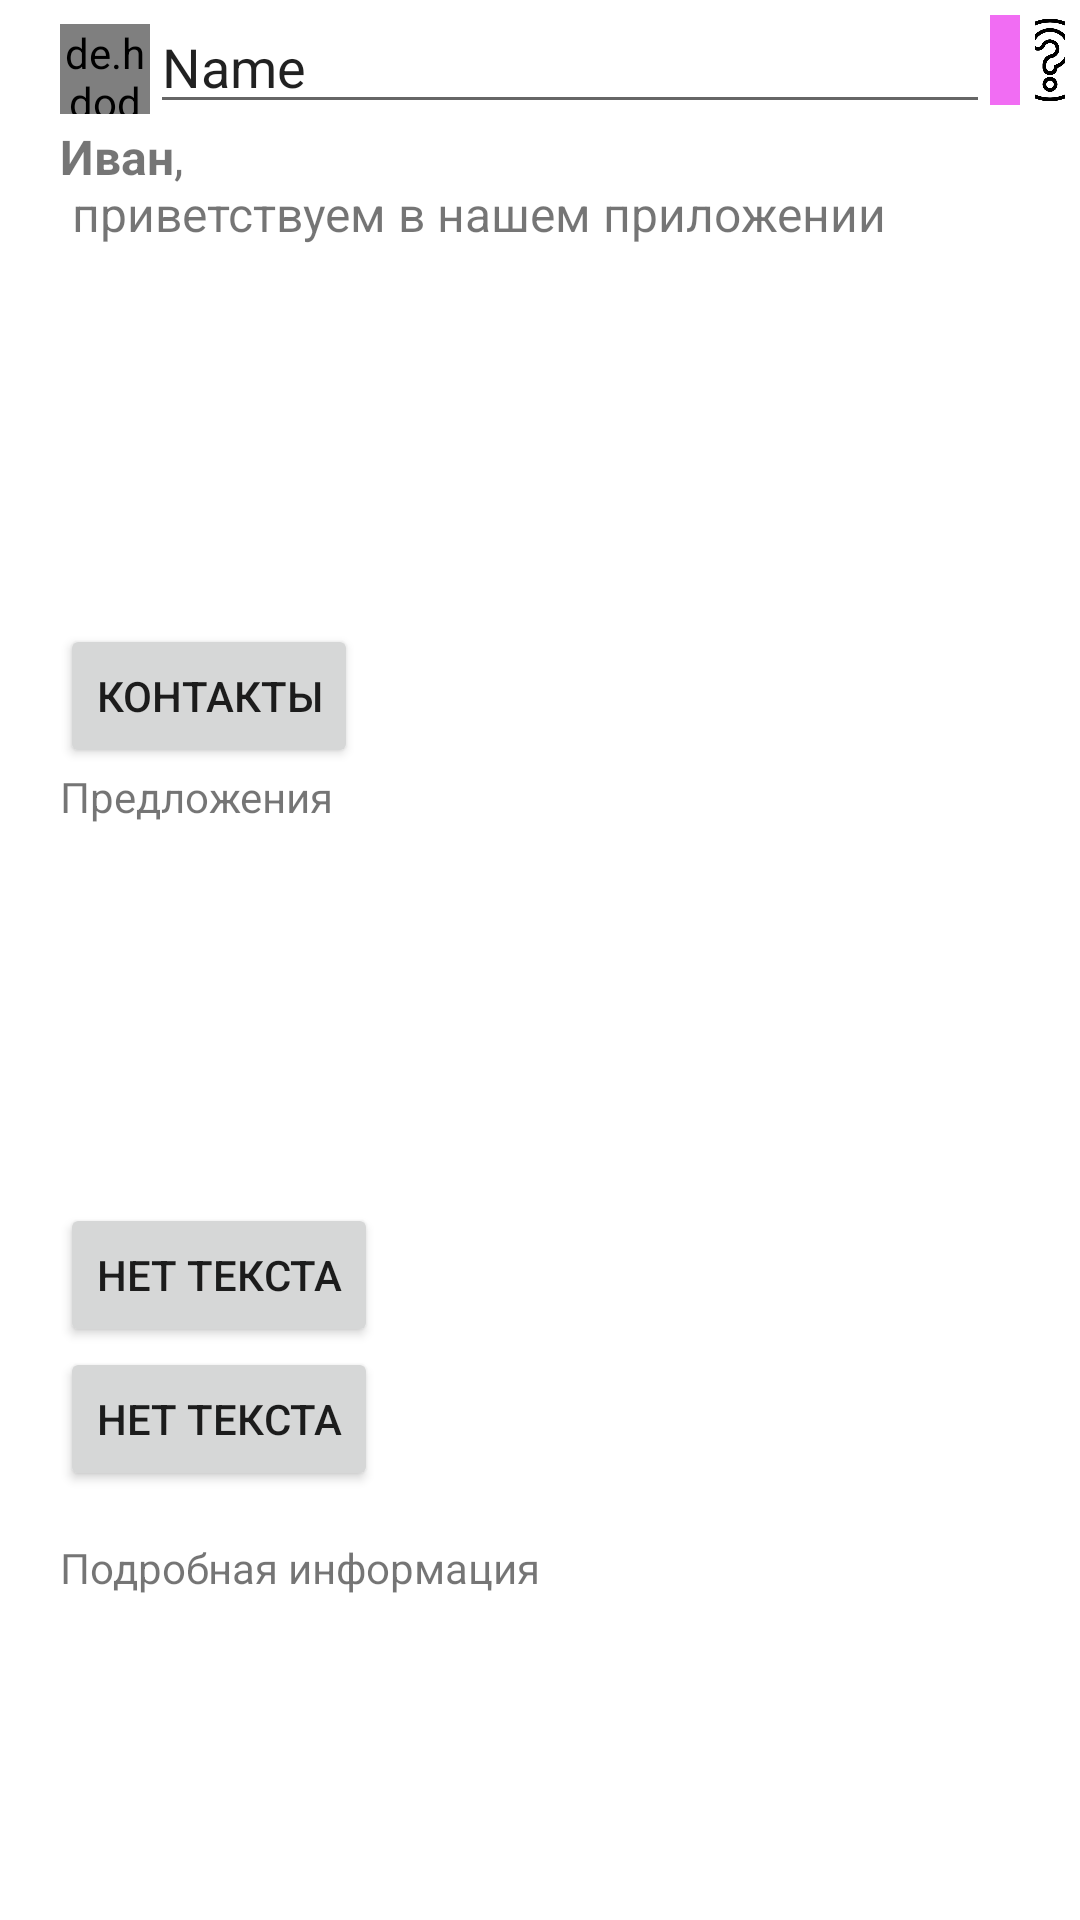

Where icons sit on this 1080px x 1920px app screen, as [x1=x1, y1=y1, x2=x2, y2=y2]:
free question mark: [x1=1035, y1=19, x2=1065, y2=101]
